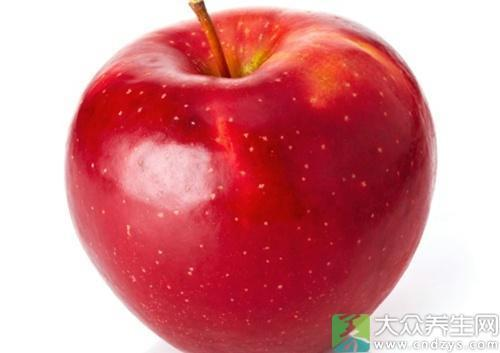apple: (61, 6, 433, 348)
